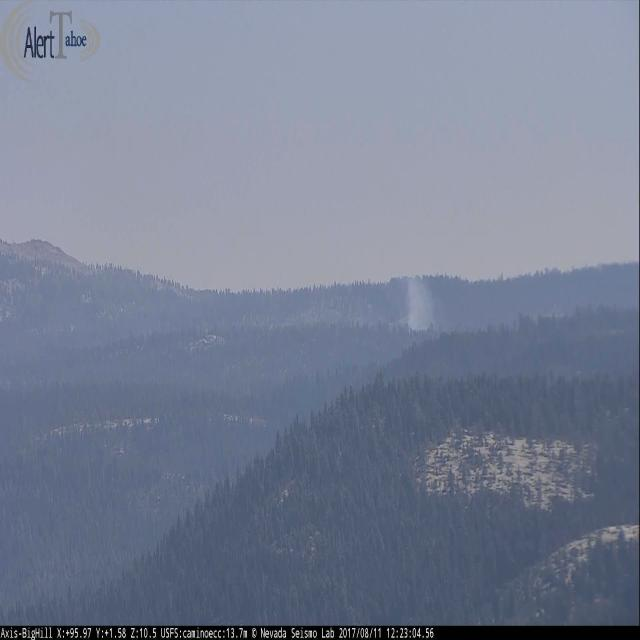smoke: (404, 277, 438, 337)
